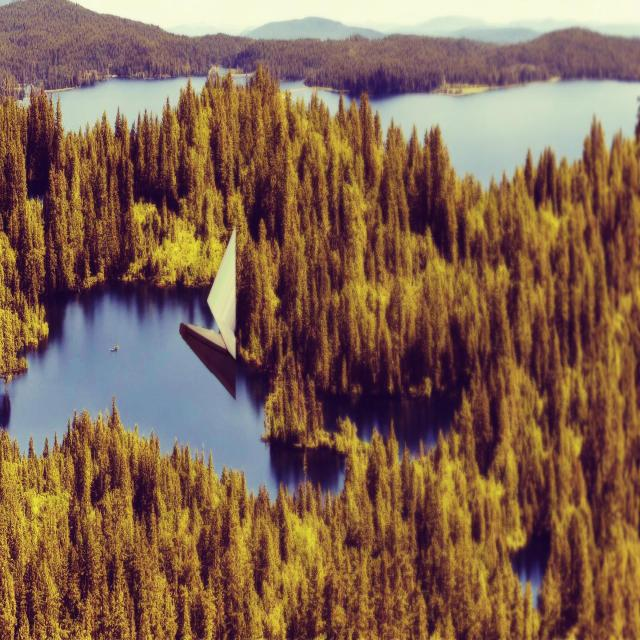airplane: (179, 226, 237, 400)
